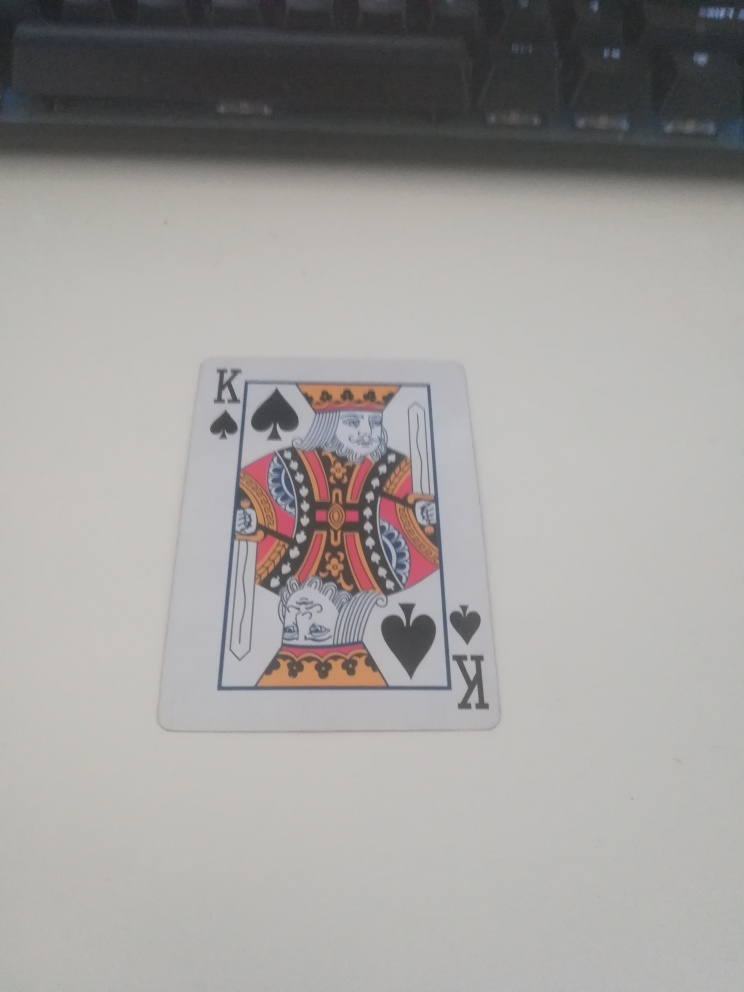KS: (206, 361, 245, 445)
